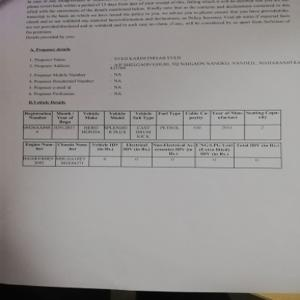table: (22, 108, 282, 140), (20, 141, 284, 170)
text: (28, 46, 300, 105), (26, 1, 291, 39)
